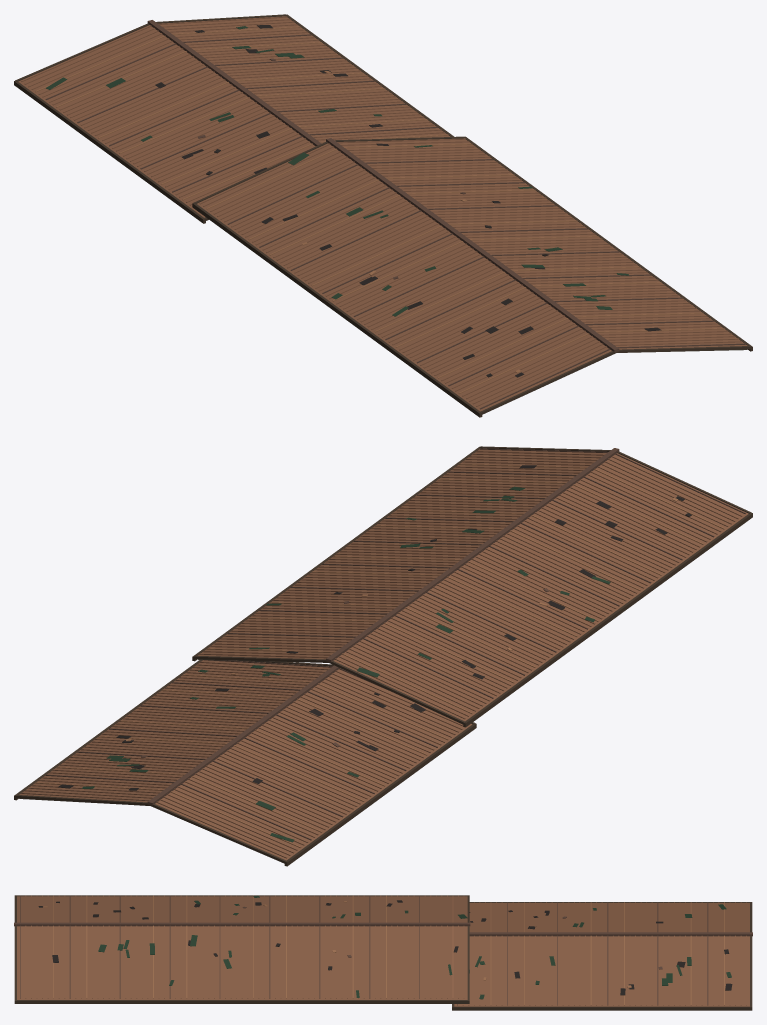
File: roof_pensao_santa_luzia_colonial_final_01.glb
The picture shows the model from 3 angles, top to bottom: view 1: azimuth 30°, elevation 25°; view 2: azimuth 150°, elevation 25°; view 3: azimuth 270°, elevation 25°; orthographic projection. The views are drawn at different scales.
Parts seen in each view (by area): view 1: roof_ala_principal_colonial_final_top_left_plane, roof_ala_principal_colonial_final_top_right_plane, roof_volume_frontal_colonial_final_top_left_plane, roof_volume_frontal_colonial_final_top_right_plane, roof_ala_principal_colonial_final_ridge_cap_ceramic, roof_ala_principal_colonial_final_left_eave_fascia_rotten, roof_volume_frontal_colonial_final_left_eave_fascia_rotten, roof_volume_frontal_colonial_final_ridge_cap_ceramic, roof_ala_principal_colonial_final_right_eave_fascia_rotten; view 2: roof_ala_principal_colonial_final_top_left_plane, roof_volume_frontal_colonial_final_top_left_plane, roof_ala_principal_colonial_final_top_right_plane, roof_volume_frontal_colonial_final_top_right_plane, roof_ala_principal_colonial_final_ridge_cap_ceramic, roof_ala_principal_colonial_final_left_eave_fascia_rotten, roof_volume_frontal_colonial_final_ridge_cap_ceramic, roof_volume_frontal_colonial_final_left_eave_fascia_rotten, roof_ala_principal_colonial_final_right_eave_fascia_rotten; view 3: roof_ala_principal_colonial_final_top_right_plane, roof_volume_frontal_colonial_final_top_right_plane, roof_ala_principal_colonial_final_top_left_plane, roof_volume_frontal_colonial_final_top_left_plane, roof_ala_principal_colonial_final_ridge_cap_ceramic, roof_ala_principal_colonial_final_right_eave_fascia_rotten, roof_volume_frontal_colonial_final_right_eave_fascia_rotten, roof_volume_frontal_colonial_final_ridge_cap_ceramic, roof_ala_principal_colonial_final_left_eave_fascia_rotten, roof_volume_frontal_colonial_final_left_eave_fascia_rotten, roof_ala_principal_colonial_final_back_right_gable_trim, roof_ala_principal_colonial_final_front_right_gable_trim.
Boxes of the visible parts, bbox=[...] form: roof_ala_principal_colonial_final_top_left_plane: bbox=[197, 143, 611, 411]; roof_ala_principal_colonial_final_top_right_plane: bbox=[339, 139, 747, 349]; roof_volume_frontal_colonial_final_top_left_plane: bbox=[18, 25, 314, 217]; roof_volume_frontal_colonial_final_top_right_plane: bbox=[160, 16, 450, 143]; roof_ala_principal_colonial_final_ridge_cap_ceramic: bbox=[326, 138, 619, 352]; roof_ala_principal_colonial_final_left_eave_fascia_rotten: bbox=[192, 203, 482, 417]; roof_volume_frontal_colonial_final_left_eave_fascia_rotten: bbox=[14, 81, 205, 223]; roof_volume_frontal_colonial_final_ridge_cap_ceramic: bbox=[147, 20, 321, 145]; roof_ala_principal_colonial_final_right_eave_fascia_rotten: bbox=[465, 136, 752, 351]; roof_ala_principal_colonial_final_top_left_plane: bbox=[333, 453, 748, 721]; roof_volume_frontal_colonial_final_top_left_plane: bbox=[155, 669, 472, 860]; roof_ala_principal_colonial_final_top_right_plane: bbox=[197, 448, 606, 659]; roof_volume_frontal_colonial_final_top_right_plane: bbox=[19, 660, 330, 802]; roof_ala_principal_colonial_final_ridge_cap_ceramic: bbox=[326, 448, 619, 662]; roof_ala_principal_colonial_final_left_eave_fascia_rotten: bbox=[463, 513, 752, 727]; roof_volume_frontal_colonial_final_ridge_cap_ceramic: bbox=[147, 665, 339, 805]; roof_volume_frontal_colonial_final_left_eave_fascia_rotten: bbox=[284, 723, 476, 866]; roof_ala_principal_colonial_final_right_eave_fascia_rotten: bbox=[192, 446, 480, 661]; roof_ala_principal_colonial_final_top_right_plane: bbox=[17, 926, 467, 999]; roof_volume_frontal_colonial_final_top_right_plane: bbox=[454, 936, 749, 1006]; roof_ala_principal_colonial_final_top_left_plane: bbox=[17, 896, 467, 922]; roof_volume_frontal_colonial_final_top_left_plane: bbox=[469, 903, 749, 932]; roof_ala_principal_colonial_final_ridge_cap_ceramic: bbox=[14, 922, 470, 926]; roof_ala_principal_colonial_final_right_eave_fascia_rotten: bbox=[14, 1000, 469, 1003]; roof_volume_frontal_colonial_final_right_eave_fascia_rotten: bbox=[452, 1006, 752, 1010]; roof_volume_frontal_colonial_final_ridge_cap_ceramic: bbox=[469, 932, 752, 936]; roof_ala_principal_colonial_final_left_eave_fascia_rotten: bbox=[17, 895, 467, 896]; roof_volume_frontal_colonial_final_left_eave_fascia_rotten: bbox=[469, 902, 749, 902]; roof_ala_principal_colonial_final_back_right_gable_trim: bbox=[467, 926, 469, 1000]; roof_ala_principal_colonial_final_front_right_gable_trim: bbox=[14, 926, 16, 1000].
Bounding box in the file's own units: 15.34 × 2.42 × 45.37.
